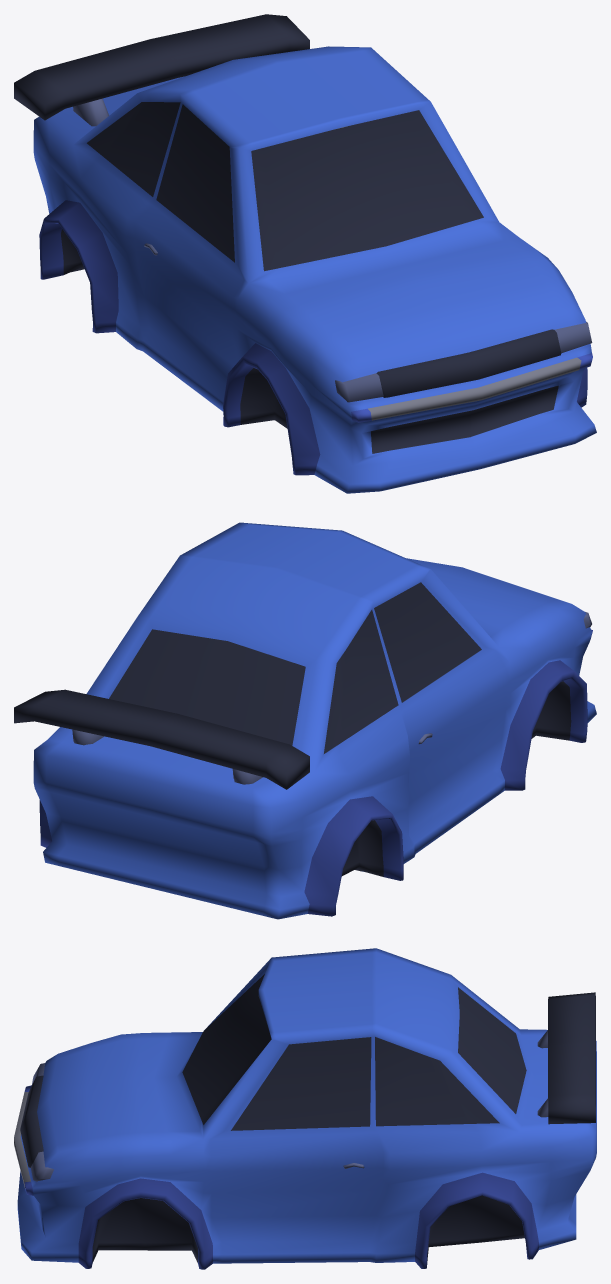
The model's file is BoyRacer.fbx.
3 renders of one model, top to bottom at view 1: azimuth 30°, elevation 25°; view 2: azimuth 150°, elevation 25°; view 3: azimuth 270°, elevation 25°, orthographic. The views are drawn at different scales.
Parts seen in each view (by area): view 1: BoyRacerMesh; view 2: BoyRacerMesh; view 3: BoyRacerMesh.
Part boxes in pixels (x1,y1,x2,y2): BoyRacerMesh: [14, 14, 596, 493]; BoyRacerMesh: [14, 522, 596, 919]; BoyRacerMesh: [14, 948, 596, 1269].
Size of the model in its own units: 209 by 167 by 382.
